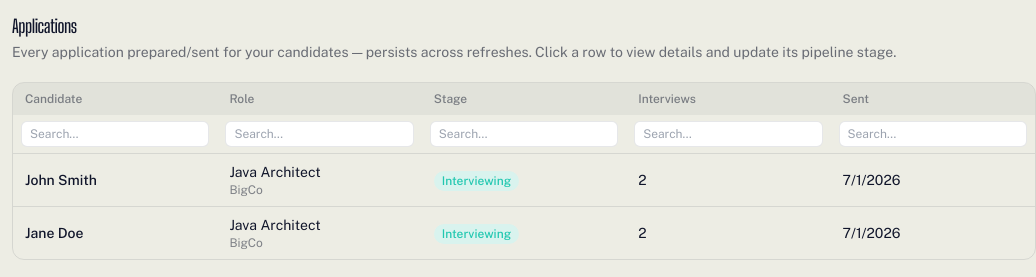
Test: Applications › filters applications by candidate name
The width and height of the screenshot is (1036, 277).
Expected: the text "Jane Doe" is shown, [25,225,83,241]
Type "Jane" into the field named "Filter Candidate" at coordinates (115, 134), box [21,121,209,147]
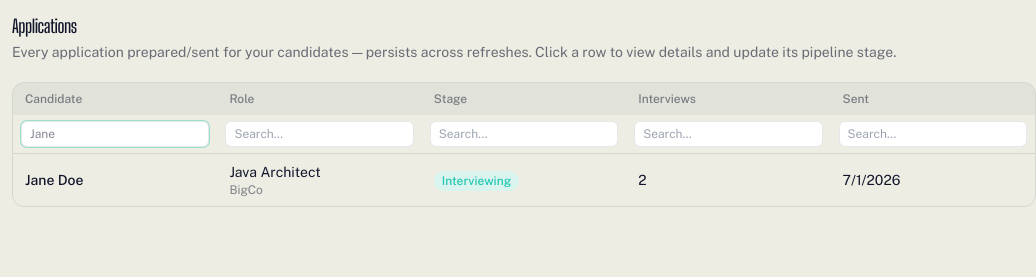
Expected: the text "Jane Doe" is shown, [25,172,83,188]
Result: the text "John Smith" is gone
